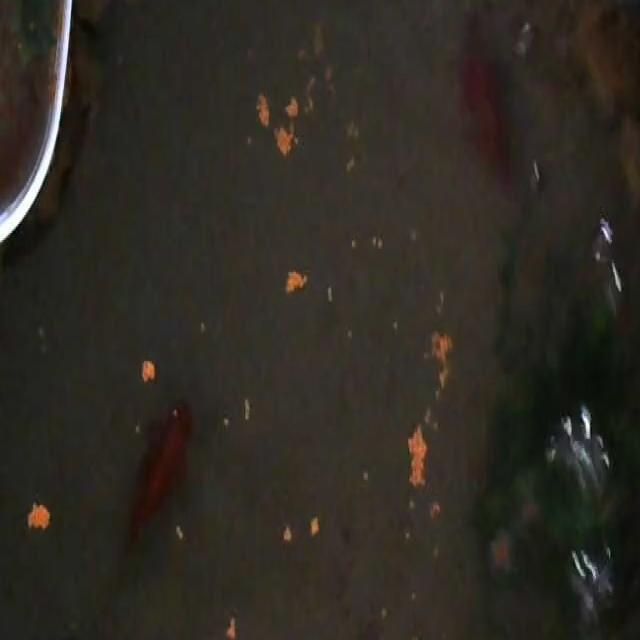fish: (122, 377, 192, 605), (464, 34, 515, 207)
